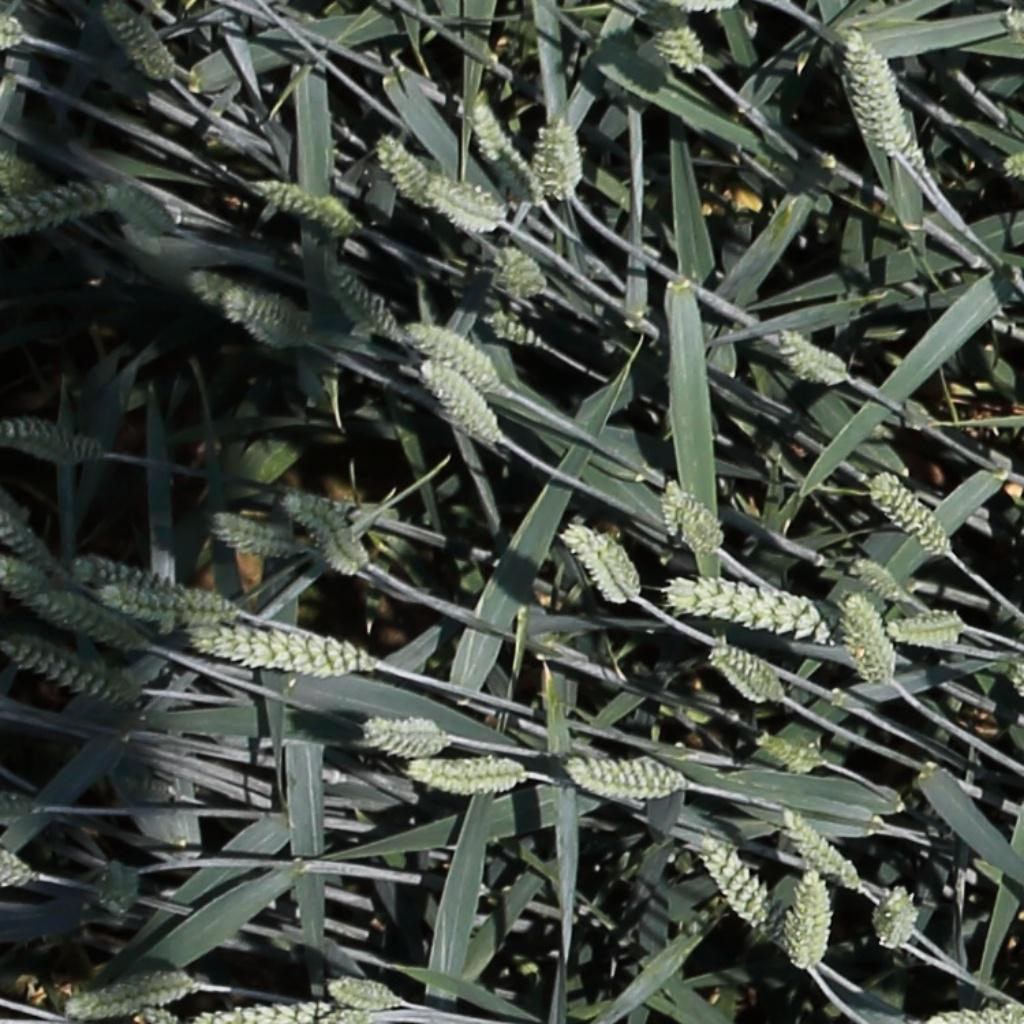0-0: (659, 576, 837, 641), (189, 629, 376, 685), (465, 94, 544, 204), (0, 168, 117, 242), (2, 637, 128, 705), (880, 39, 937, 187), (694, 836, 778, 936), (58, 968, 196, 1023), (417, 356, 501, 446), (397, 754, 544, 805), (320, 256, 405, 342), (776, 808, 860, 894), (869, 475, 953, 558), (560, 748, 695, 798), (402, 320, 501, 386), (31, 592, 140, 651), (783, 871, 840, 979), (842, 28, 890, 155), (423, 177, 521, 239), (559, 522, 629, 608), (96, 1, 170, 80), (574, 521, 643, 600), (289, 499, 361, 573), (777, 327, 857, 392), (0, 507, 69, 582), (252, 177, 349, 229), (842, 592, 894, 688), (371, 129, 432, 206), (662, 477, 720, 555), (361, 710, 457, 756), (711, 645, 782, 701), (546, 109, 589, 195), (68, 558, 167, 595), (95, 591, 230, 618), (4, 423, 101, 460), (884, 609, 970, 649), (221, 292, 301, 334), (102, 182, 169, 232), (873, 880, 916, 955), (210, 514, 294, 552), (532, 116, 566, 200), (753, 735, 821, 774), (481, 309, 544, 349), (849, 557, 902, 602), (656, 24, 705, 72), (492, 244, 544, 289), (324, 980, 398, 1007), (1000, 2, 1024, 66), (1010, 660, 1024, 755), (319, 1004, 370, 1024), (132, 1004, 173, 1024), (1002, 157, 1024, 176)
